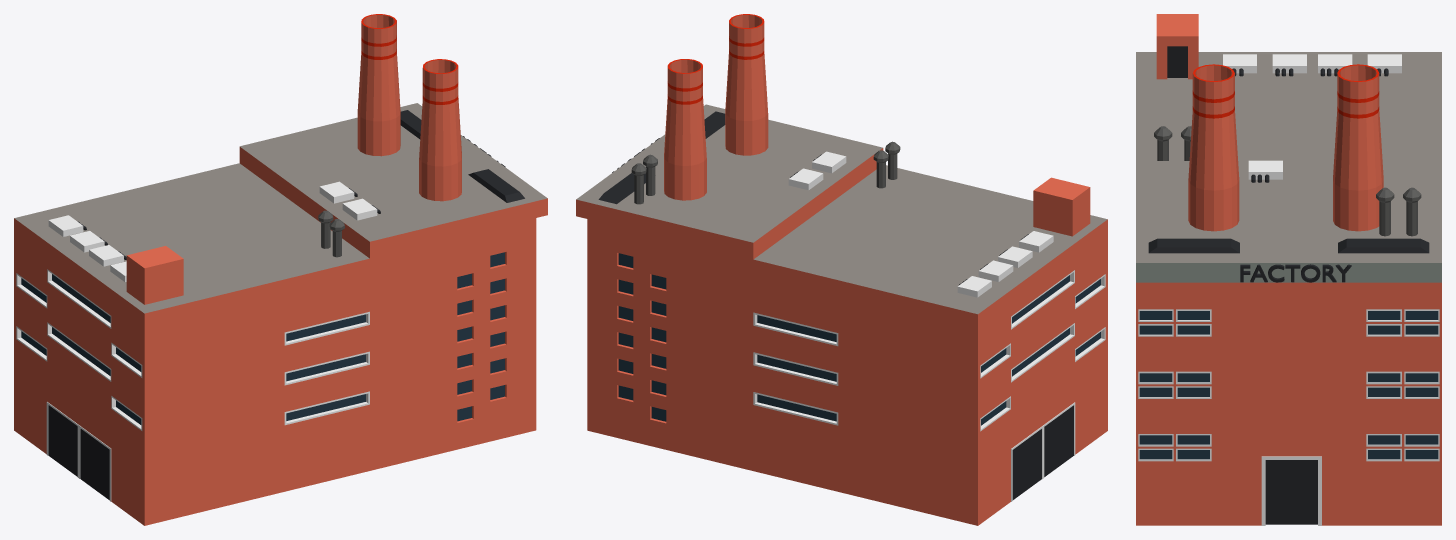
File: Factory_1.fbx
3 renders of one model, left to right at view 1: azimuth 30°, elevation 25°; view 2: azimuth 150°, elevation 25°; view 3: azimuth 270°, elevation 25°, orthographic. The views are drawn at different scales.
Parts seen in each view (by area): view 1: Factory_1; view 2: Factory_1; view 3: Factory_1.
Boxes of the visible parts, x1,y1,x2,y2 form: Factory_1: (14,14,547,525); Factory_1: (576,14,1107,525); Factory_1: (1136,14,1441,525).
Size of the model in its own units: 1920 by 1602 by 1067.
